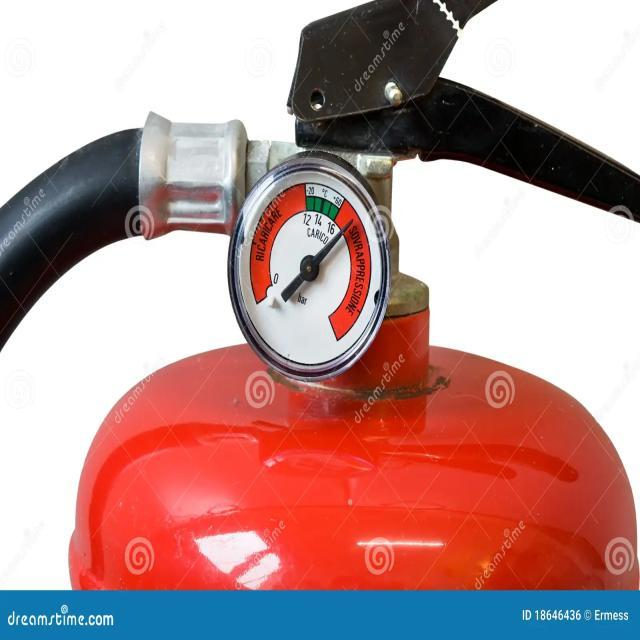pressure gauge: (228, 153, 390, 379)
